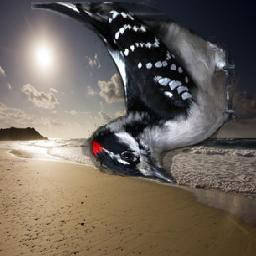Woodpecker: (31, 3, 235, 184)
